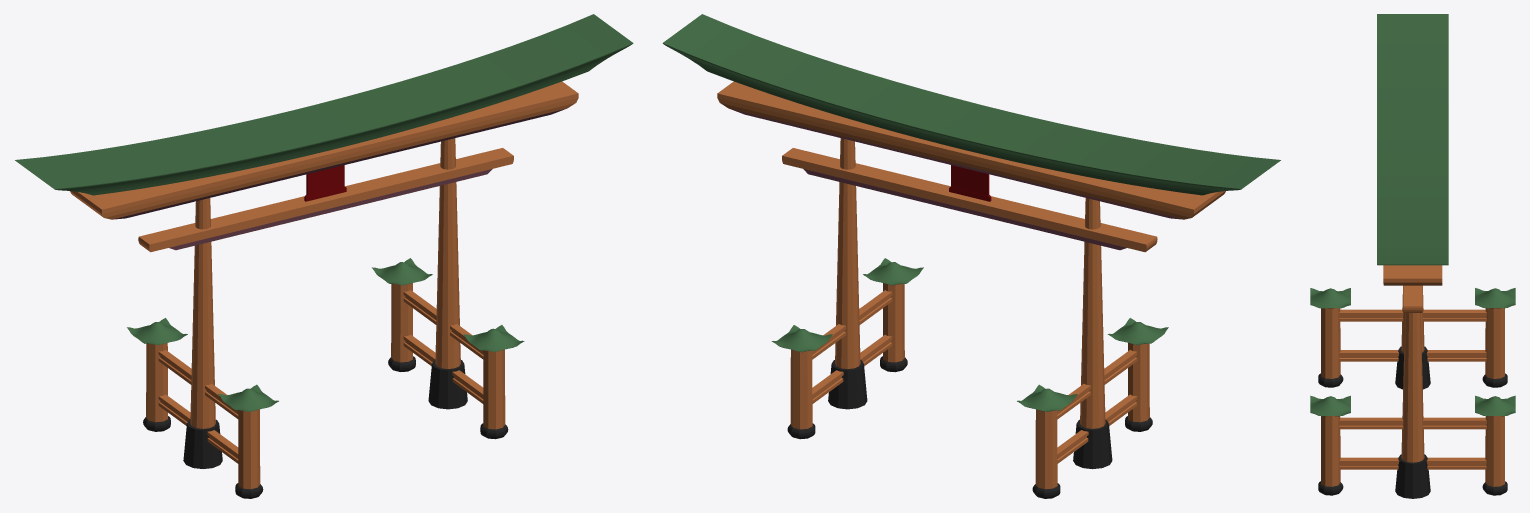
File: JapanArchwayTower.fbx
The picture shows the model from 3 angles, left to right: view 1: azimuth 30°, elevation 25°; view 2: azimuth 150°, elevation 25°; view 3: azimuth 270°, elevation 25°; orthographic projection. The views are drawn at different scales.
Visible parts, largest first — view 1: Cylinder.003; view 2: Cylinder.003; view 3: Cylinder.003.
Part boxes in pixels (x1=…): Cylinder.003: x1=15, y1=14, x2=633, y2=498; Cylinder.003: x1=662, y1=14, x2=1280, y2=498; Cylinder.003: x1=1310, y1=14, x2=1515, y2=498.
Size of the model in its own units: 617 by 338 by 210.
